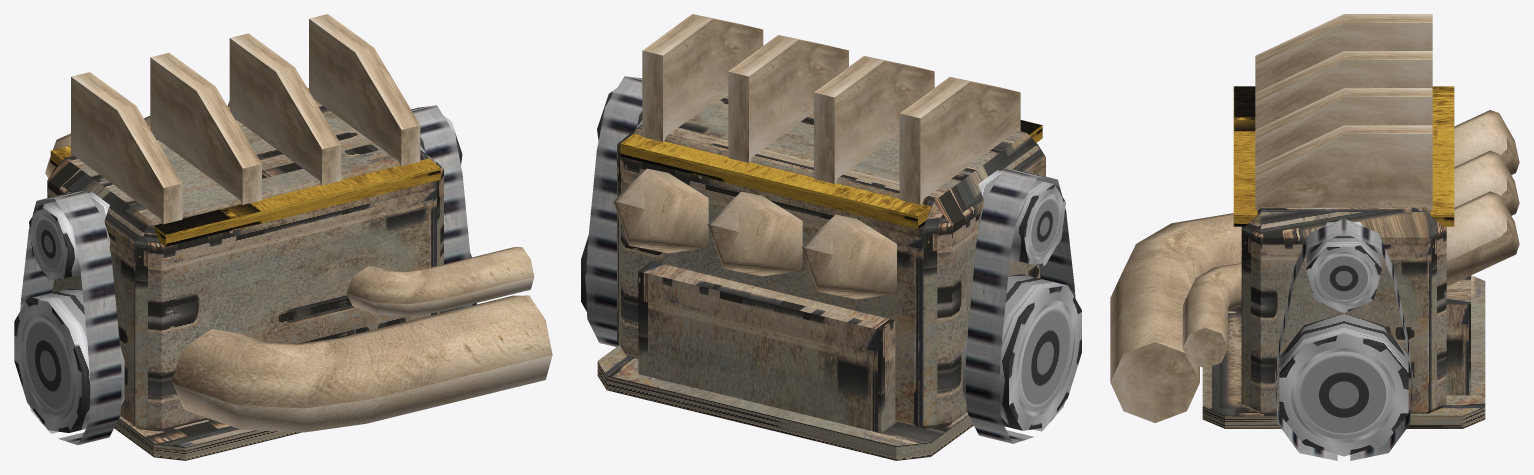
File: static.fbx
The picture shows the model from 3 angles, left to right: view 1: azimuth 30°, elevation 25°; view 2: azimuth 150°, elevation 25°; view 3: azimuth 270°, elevation 25°; orthographic projection. The views are drawn at different scales.
Visible parts, largest first — view 1: Cube_3, Sweep_4, Extrude, Cube_1_2, Cube_1_0, Cube_1_1, Cube_1_3, Cylinder_1_2, Sweep, Cube_1, Extrude_3, Cylinder; view 2: Cube_3, Cube, Extrude, Cylinder_1_2, Cube_1_0, Extrude_3, Cube_1_3, Cube_1_2, Cube_1_1, Cube_1, Cylinder_2, Cylinder_1 (+2 smaller); view 3: Cube_3, Sweep_4, Cylinder_1_2, Cube_1_3, Extrude_3, Cube_1_2, Cube_1_1, Cube_1_0, Cube_1, Cylinder_2, Cylinder, Sweep (+4 smaller).
Part boxes in pixels (left/top/right/bottom): Cube_3: left=47, top=100, right=443, bottom=431; Sweep_4: left=171, top=295, right=552, bottom=432; Extrude: left=20, top=105, right=472, bottom=444; Cube_1_2: left=229, top=33, right=341, bottom=185; Cube_1_0: left=71, top=72, right=182, bottom=224; Cube_1_1: left=150, top=52, right=261, bottom=204; Cube_1_3: left=309, top=14, right=420, bottom=166; Cylinder_1_2: left=14, top=253, right=476, bottom=432; Sweep: left=346, top=247, right=534, bottom=316; Cube_1: left=50, top=87, right=440, bottom=246; Extrude_3: left=114, top=416, right=302, bottom=460; Cylinder: left=29, top=116, right=462, bottom=280; Cube_3: left=617, top=91, right=1045, bottom=428; Cube: left=638, top=261, right=896, bottom=433; Extrude: left=585, top=76, right=1075, bottom=443; Cylinder_1_2: left=581, top=235, right=1081, bottom=430; Cube_1_0: left=899, top=77, right=1020, bottom=204; Extrude_3: left=597, top=345, right=973, bottom=460; Cube_1_3: left=642, top=14, right=763, bottom=141; Cube_1_2: left=728, top=35, right=848, bottom=162; Cube_1_1: left=814, top=56, right=934, bottom=183; Cube_1: left=620, top=120, right=1042, bottom=229; Cylinder_2: left=613, top=168, right=708, bottom=253; Cylinder_1: left=707, top=191, right=802, bottom=276; Cube_3: left=1241, top=207, right=1446, bottom=413; Sweep_4: left=1110, top=213, right=1241, bottom=422; Cylinder_1_2: left=1279, top=313, right=1408, bottom=456; Cube_1_3: left=1255, top=125, right=1432, bottom=210; Extrude_3: left=1202, top=275, right=1485, bottom=428; Cube_1_2: left=1255, top=88, right=1432, bottom=166; Cube_1_1: left=1255, top=51, right=1432, bottom=129; Cube_1_0: left=1255, top=14, right=1432, bottom=92; Cube_1: left=1233, top=86, right=1454, bottom=226; Cylinder_2: left=1446, top=191, right=1519, bottom=286; Cylinder: left=1306, top=222, right=1381, bottom=312; Sweep: left=1182, top=263, right=1241, bottom=368.
Size of the model in its own units: 92.35 by 68.13 by 84.95.
Materials: 5 (5 with a texture image).
